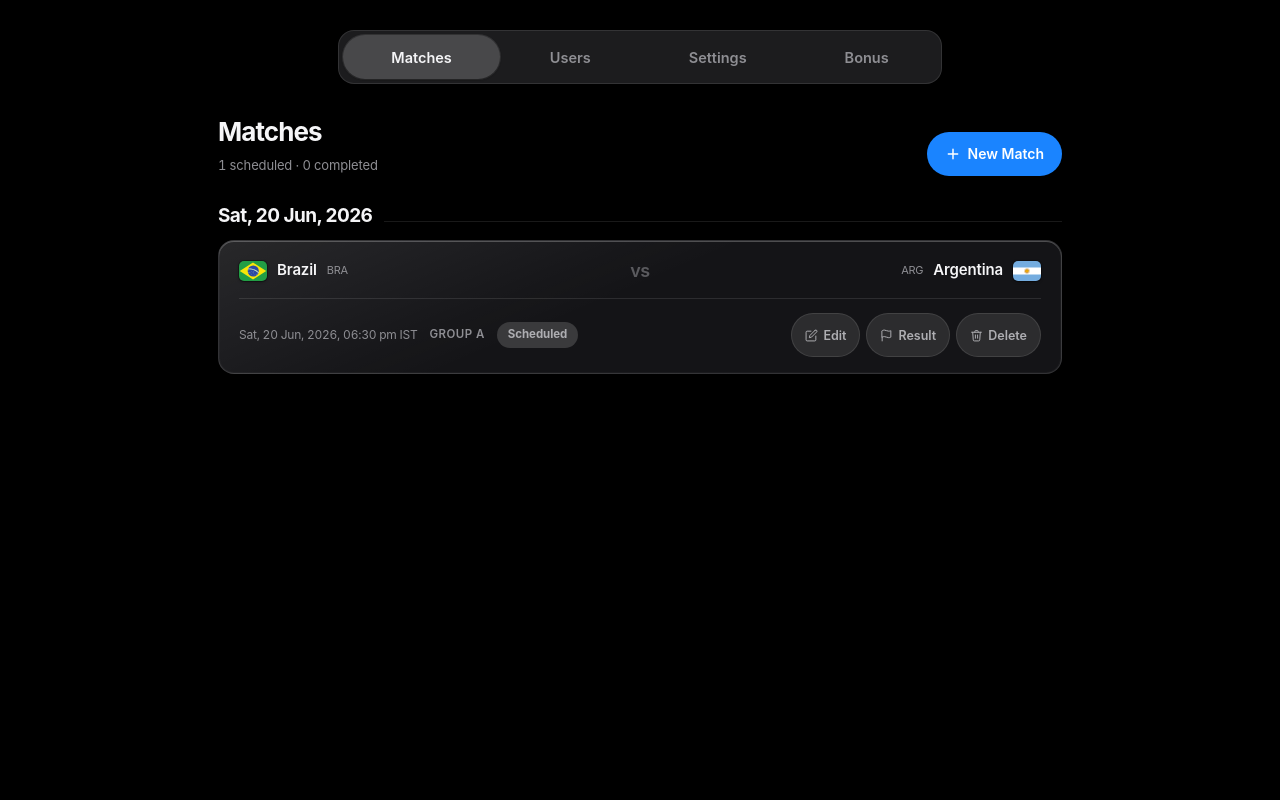
Test: Admin screen — matches tab › shows 'Match deleted' status after confirming delete
The width and height of the screenshot is (1280, 800).
// Trigger delete confirm
Click the button with test id "delete-btn-10".
click(999, 335)  # box [956,313,1041,357]
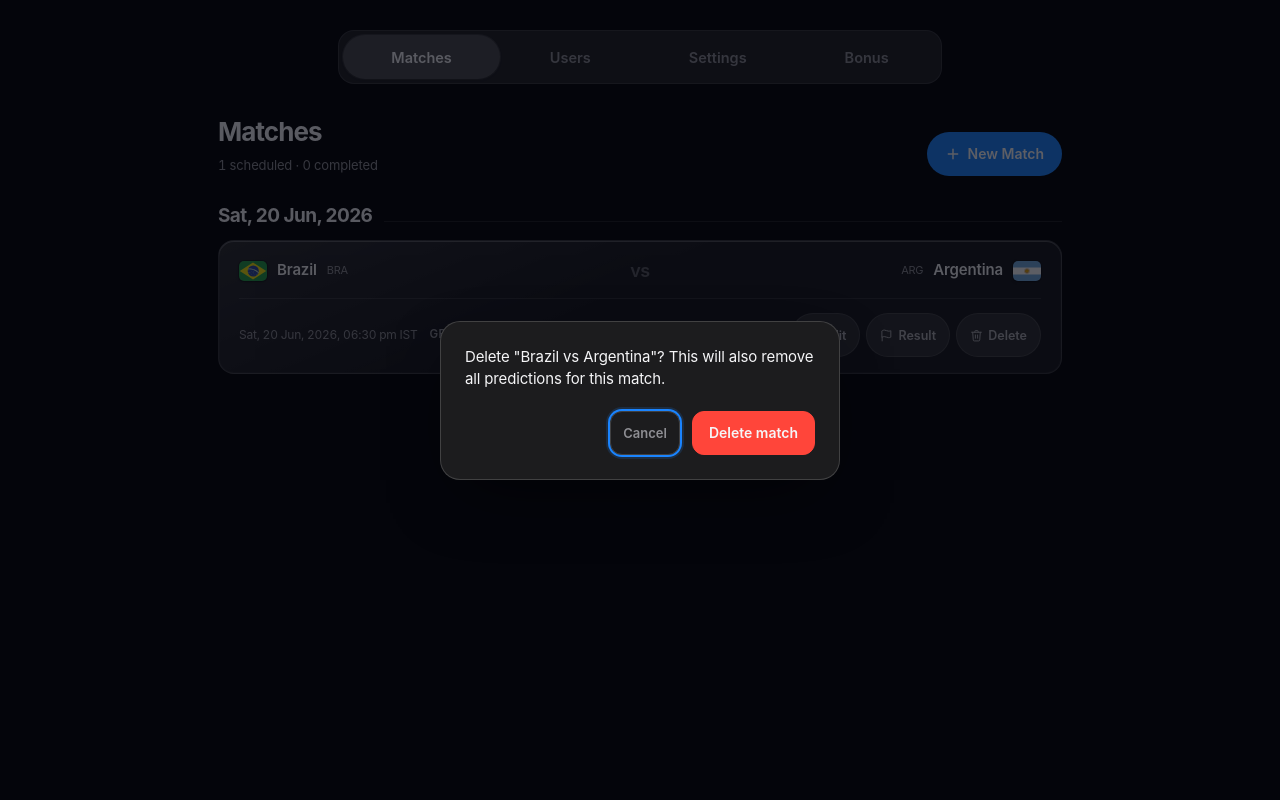
Expected: the dialog is shown
// Confirm deletion
Click the button with test id "confirm-dialog-confirm".
click(753, 432)  # box [692,410,815,454]
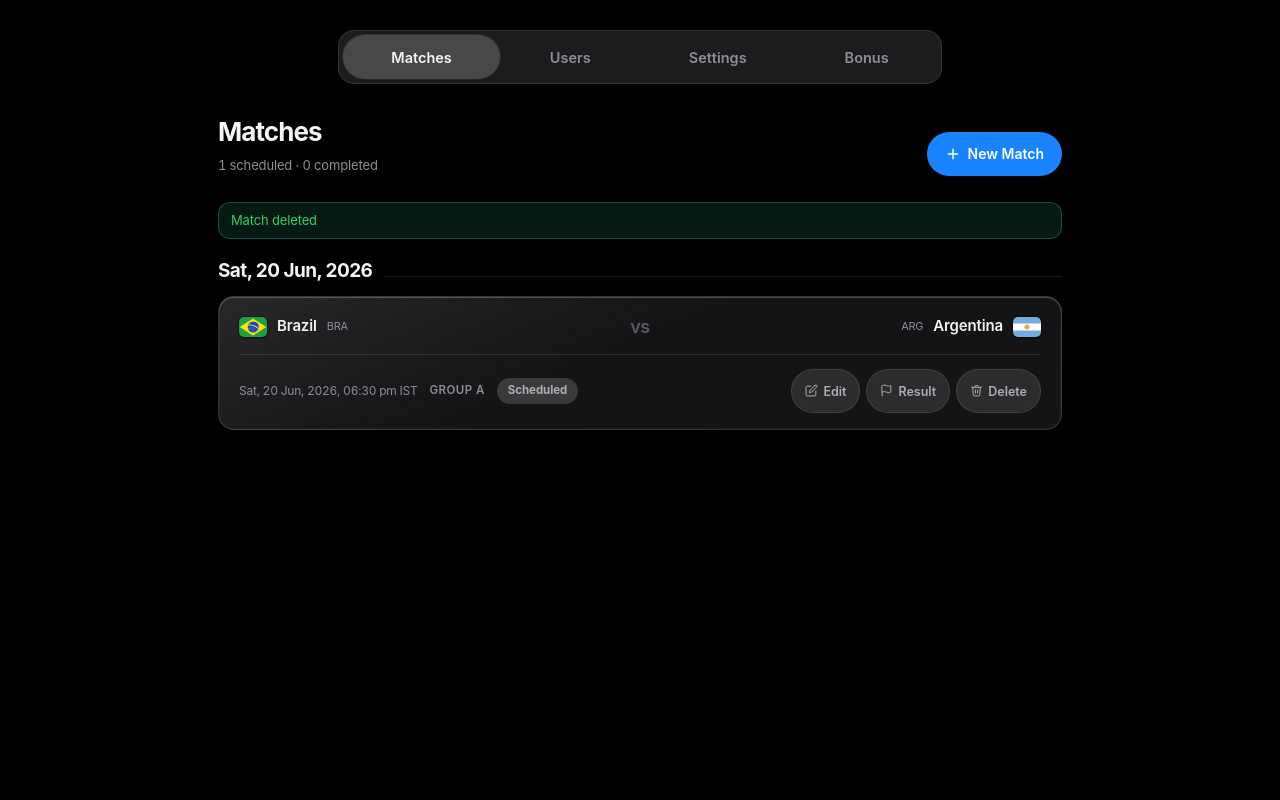
Expected: the message with test id "match-status" reads "Match deleted", [231,212,317,228]
